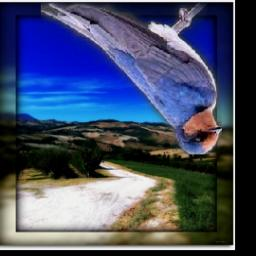Swallow: (42, 4, 223, 155)
